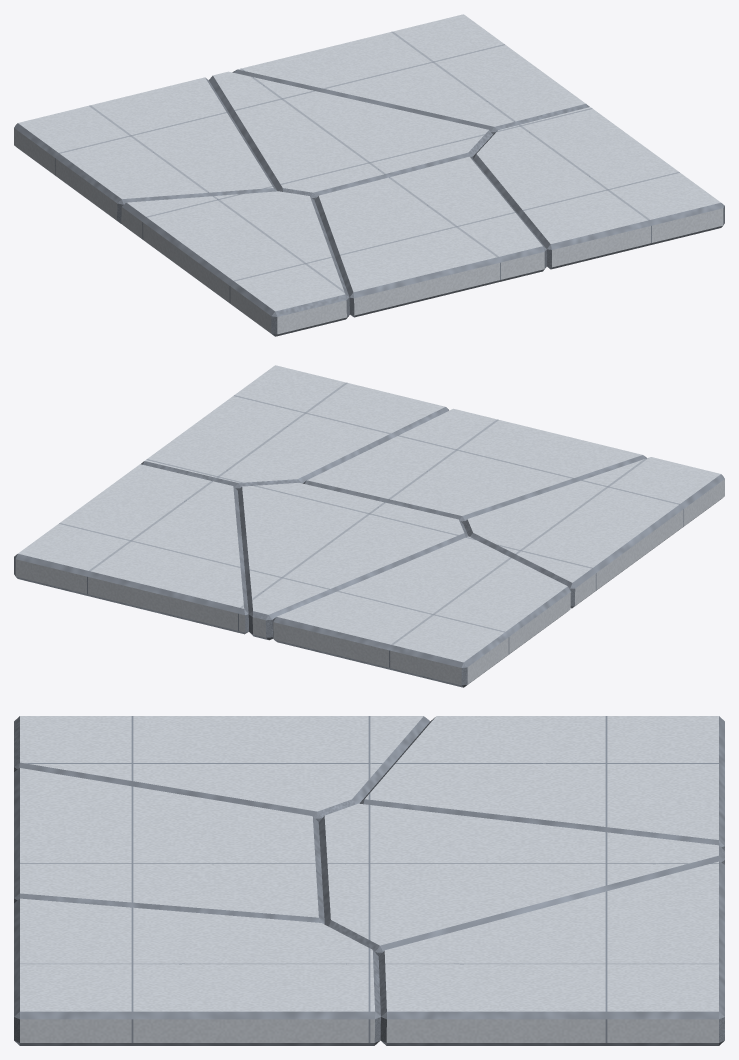
The model's file is Kit_Steel_Floor_Fractured.glb.
3 renders of one model, top to bottom at view 1: azimuth 30°, elevation 25°; view 2: azimuth 150°, elevation 25°; view 3: azimuth 270°, elevation 25°, orthographic. The views are drawn at different scales.
Visible parts, largest first — view 1: Kit_Steel_Floor_frag_05, Kit_Steel_Floor_frag_03, Kit_Steel_Floor_frag_02, Kit_Steel_Floor_frag_01, Kit_Steel_Floor_frag_06, Kit_Steel_Floor_frag_04; view 2: Kit_Steel_Floor_frag_02, Kit_Steel_Floor_frag_06, Kit_Steel_Floor_frag_05, Kit_Steel_Floor_frag_03, Kit_Steel_Floor_frag_04, Kit_Steel_Floor_frag_01; view 3: Kit_Steel_Floor_frag_06, Kit_Steel_Floor_frag_05, Kit_Steel_Floor_frag_02, Kit_Steel_Floor_frag_03, Kit_Steel_Floor_frag_04, Kit_Steel_Floor_frag_01.
Boxes of the visible parts, x1=… form: Kit_Steel_Floor_frag_05: x1=473, y1=107, x2=724, y2=269; Kit_Steel_Floor_frag_03: x1=314, y1=156, x2=546, y2=317; Kit_Steel_Floor_frag_02: x1=14, y1=77, x2=277, y2=223; Kit_Steel_Floor_frag_01: x1=121, y1=191, x2=349, y2=336; Kit_Steel_Floor_frag_06: x1=232, y1=14, x2=589, y2=134; Kit_Steel_Floor_frag_04: x1=209, y1=71, x2=492, y2=199; Kit_Steel_Floor_frag_02: x1=272, y1=536, x2=570, y2=687; Kit_Steel_Floor_frag_06: x1=14, y1=464, x2=248, y2=634; Kit_Steel_Floor_frag_05: x1=141, y1=365, x2=448, y2=490; Kit_Steel_Floor_frag_03: x1=303, y1=408, x2=646, y2=523; Kit_Steel_Floor_frag_04: x1=238, y1=483, x2=468, y2=640; Kit_Steel_Floor_frag_01: x1=463, y1=457, x2=724, y2=608; Kit_Steel_Floor_frag_06: x1=378, y1=861, x2=724, y2=1045; Kit_Steel_Floor_frag_05: x1=14, y1=898, x2=380, y2=1045; Kit_Steel_Floor_frag_02: x1=359, y1=716, x2=724, y2=850; Kit_Steel_Floor_frag_03: x1=14, y1=768, x2=324, y2=924; Kit_Steel_Floor_frag_04: x1=318, y1=803, x2=724, y2=956; Kit_Steel_Floor_frag_01: x1=14, y1=716, x2=430, y2=822.
Size of what is drawn, in the model's own units: 3 by 0.16 by 3.
2 materials, 2 textured.
